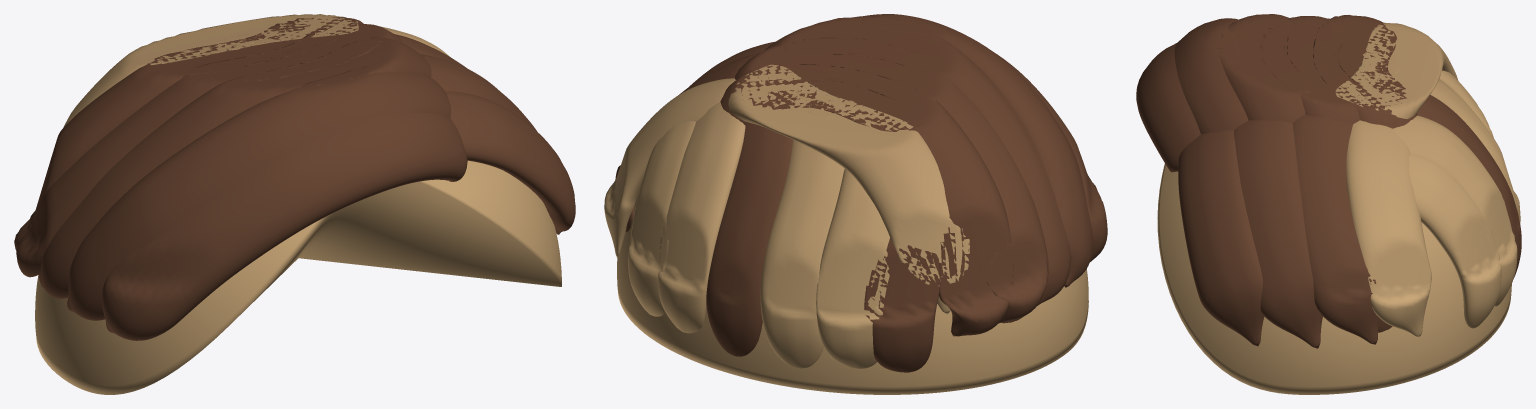
File: Highlights-318554d76f82251-hair.glb
The picture shows the model from 3 angles, left to right: view 1: azimuth 30°, elevation 25°; view 2: azimuth 150°, elevation 25°; view 3: azimuth 270°, elevation 25°; orthographic projection. The views are drawn at different scales.
Visible parts, largest first — view 1: 226 hair / Hair / sculpted 0.002, 226 hair / Hair / sculpted 1.003, 226 hair / Hair / sculpted 1, 226 hair / Hair / sculpted 2.002; view 2: 226 hair / Hair / sculpted 1.003, 226 hair / Hair / sculpted 0.002, 226 hair / Hair / sculpted 2.002, 226 hair / Hair / sculpted 1; view 3: 226 hair / Hair / sculpted 0.002, 226 hair / Hair / sculpted 1.003, 226 hair / Hair / sculpted 2.002, 226 hair / Hair / sculpted 1.
Boxes of the visible parts, x1,y1,x2,y2 form: 226 hair / Hair / sculpted 0.002: (16, 23, 575, 340); 226 hair / Hair / sculpted 1.003: (14, 14, 537, 320); 226 hair / Hair / sculpted 1: (35, 160, 561, 394); 226 hair / Hair / sculpted 2.002: (41, 34, 466, 298); 226 hair / Hair / sculpted 1.003: (625, 14, 1092, 368); 226 hair / Hair / sculpted 0.002: (604, 37, 1107, 372); 226 hair / Hair / sculpted 2.002: (615, 15, 1071, 368); 226 hair / Hair / sculpted 1: (617, 193, 1088, 394); 226 hair / Hair / sculpted 0.002: (1136, 16, 1521, 346); 226 hair / Hair / sculpted 1.003: (1174, 15, 1517, 348); 226 hair / Hair / sculpted 2.002: (1216, 14, 1520, 344); 226 hair / Hair / sculpted 1: (1157, 163, 1511, 394).
Bounding box in the file's own units: 0.9751 × 0.5369 × 0.761.
